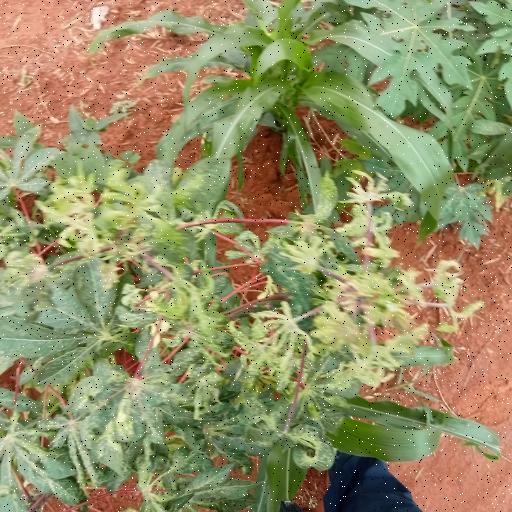Cassava_Mosaic: (71, 344, 185, 468), (0, 267, 119, 373)
